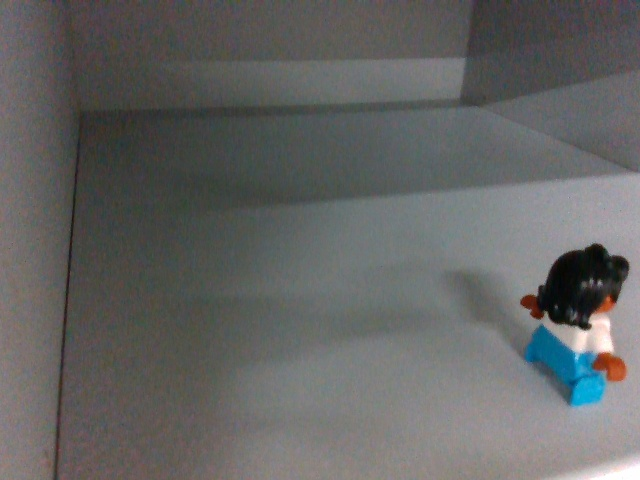people: (518, 244, 635, 407)
